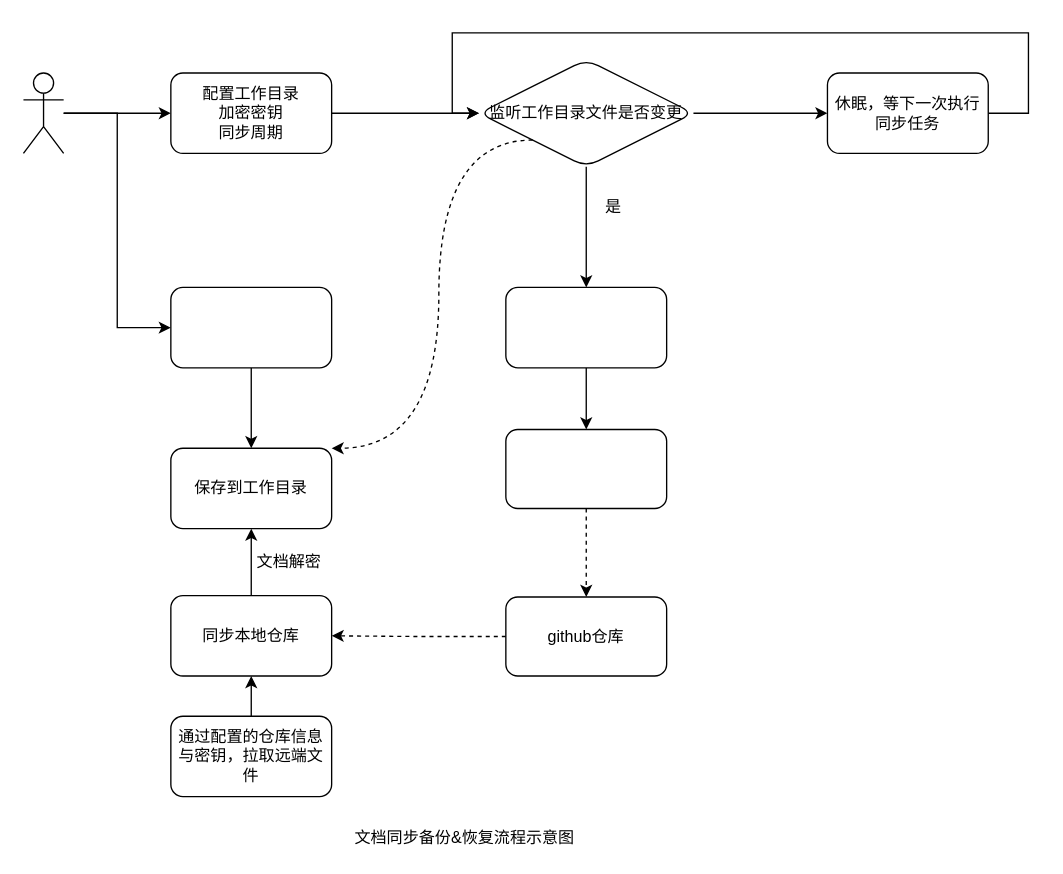
Image size: 1063x874. Some labels were removed from this diagram. The shapes that lost their labels are listed below. From the top down, each one's centre as x and y in pixels, then its label:
[43,112]: Actor
[251,327]: 编辑文档
[586,327]: 根据密钥加密文档，并将加密的文档存放到变更文件目录
[586,468]: 将变更文件推送到github仓库
